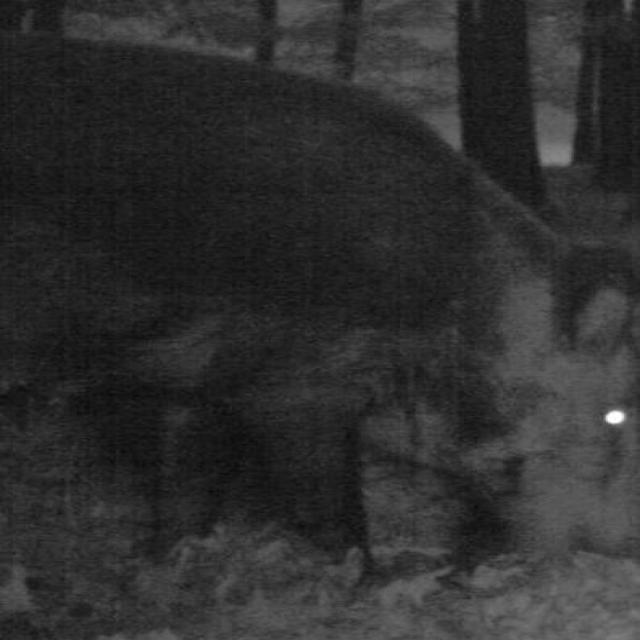pig: (13, 17, 640, 580)
